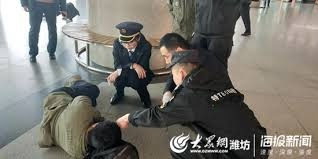falling: (28, 71, 131, 156)
